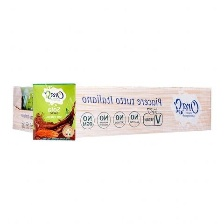carton: (29, 79, 79, 144)
